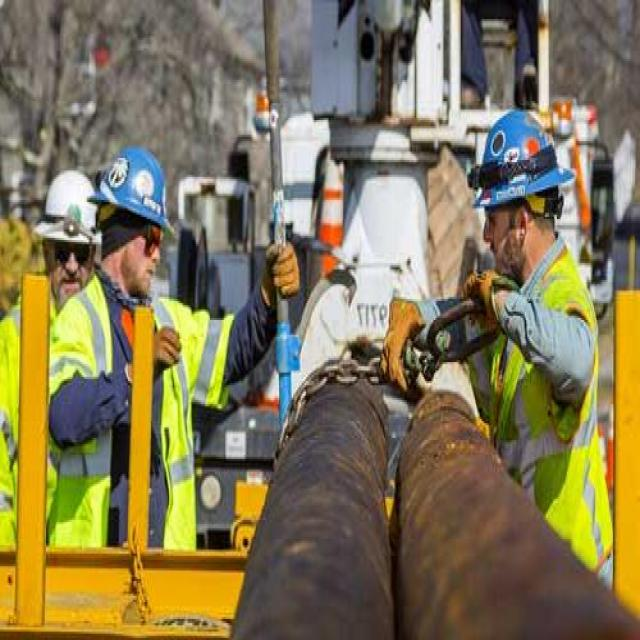Reflective-Jacket: (42, 284, 236, 558), (490, 254, 614, 570)
Safety-Helmet: (470, 99, 577, 213), (88, 134, 178, 233), (31, 162, 101, 246)
